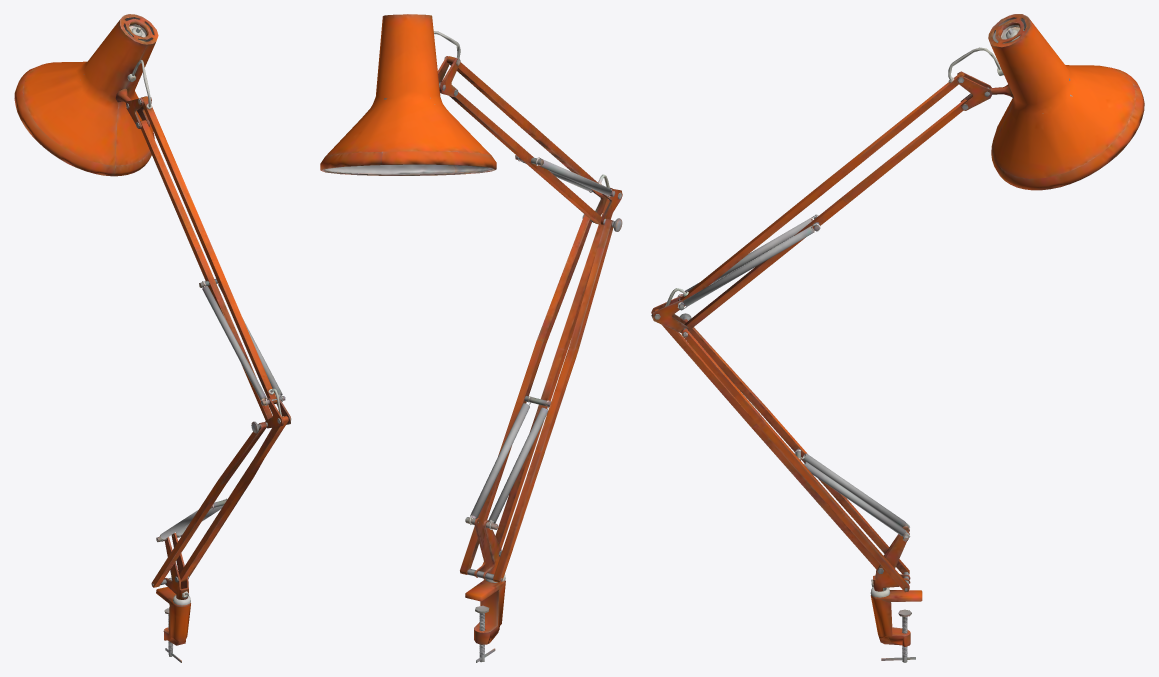
File: desk_lamp_arm_01.glb
3 renders of one model, left to right at view 1: azimuth 30°, elevation 25°; view 2: azimuth 150°, elevation 25°; view 3: azimuth 270°, elevation 25°, orthographic. The views are drawn at different scales.
Parts seen in each view (by area): view 1: desk_lamp_arm_01; view 2: desk_lamp_arm_01; view 3: desk_lamp_arm_01.
Part boxes in pixels (left/top/right/bottom): desk_lamp_arm_01: left=14, top=14, right=291, bottom=662; desk_lamp_arm_01: left=320, top=14, right=622, bottom=662; desk_lamp_arm_01: left=651, top=14, right=1144, bottom=662.
Bounding box in the file's own units: 0.2013 × 0.8926 × 0.6139.
Materials: 2 (2 with a texture image).
